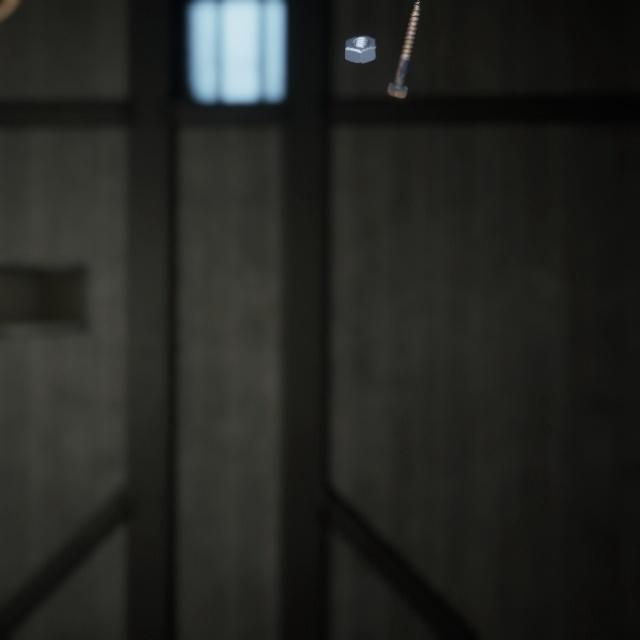bolt: (381, 0, 424, 94)
nut: (342, 22, 382, 58)
